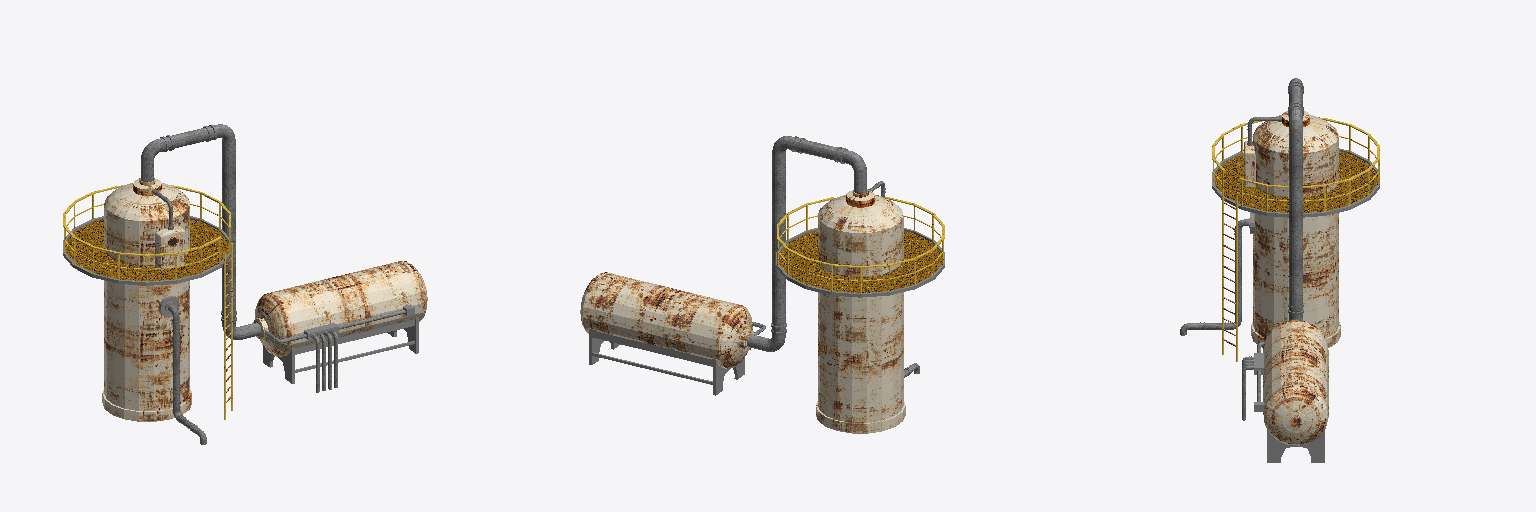
3 views of the same model, side by side, from view 1: azimuth 30°, elevation 25°; view 2: azimuth 150°, elevation 25°; view 3: azimuth 270°, elevation 25° (orthographic).
Parts seen in each view (by area): view 1: tank_2.obj; view 2: tank_2.obj; view 3: tank_2.obj.
Boxes of the visible parts, <box> form: tank_2.obj: <box>63,124,427,444</box>; tank_2.obj: <box>580,136,944,433</box>; tank_2.obj: <box>1180,78,1379,462</box>.
Bounding box in the file's own units: 22.9 × 16.72 × 11.37.
Materials: 4 (3 with a texture image).